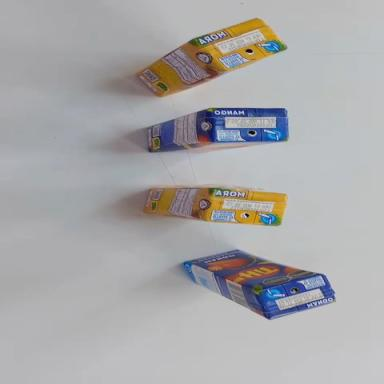HIT-MANGO: (175, 236, 341, 336), (145, 104, 290, 156)
HIT-MORA: (132, 7, 287, 106), (144, 187, 287, 226)
cara_F: (185, 236, 324, 307), (150, 133, 285, 160)
